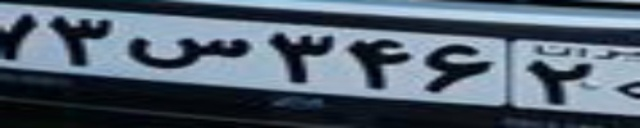0: (611, 77, 639, 101)
2: (527, 58, 594, 104)
3: (49, 14, 117, 66), (268, 32, 337, 83)
4: (345, 38, 408, 90)
6: (421, 43, 495, 94)
7: (0, 10, 36, 61)
sin: (127, 37, 252, 70)
